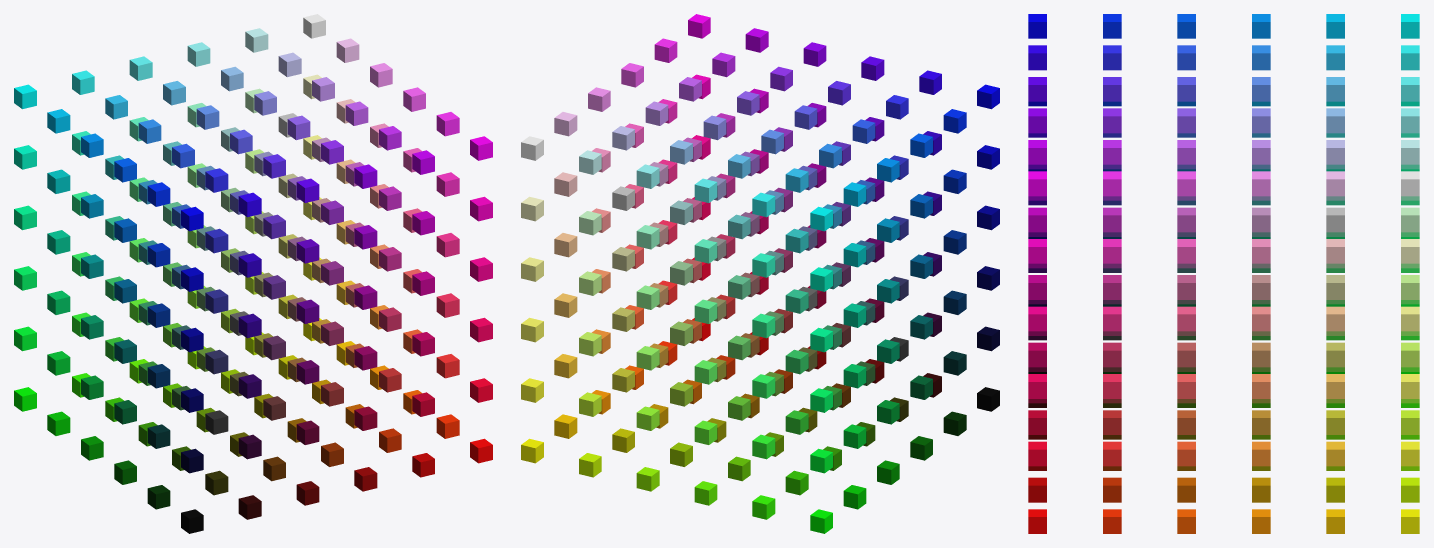
The model's file is Elements_Material.glb.
3 views of the same model, side by side, from view 1: azimuth 30°, elevation 25°; view 2: azimuth 150°, elevation 25°; view 3: azimuth 270°, elevation 25° (orthographic). The views are drawn at different scales.
Visible parts, largest first — view 1: no part large enough to name; view 2: no part large enough to name; view 3: 5856d4da-4130-47d1-a202-3a05e0b80d8a_mesh, 98613b2d-867c-4c29-9830-e681ef7e7cdc_mesh, 179c1a04-d19e-45a1-a2eb-a12df763d013_mesh, 74eb8448-69b2-44fe-91a0-dd544725f7d0_mesh, e97b8ba0-005d-4cea-b40c-6dc6d96379db_mesh, 77631866-67d0-4c3b-9033-1fccc60d713b_mesh, c11bf4a3-0beb-4dcc-a69a-c78c0004e911_mesh, 93192f8b-ed00-4df8-8bc1-8c10a20383fd_mesh, c526f0cc-52a7-47ab-a742-c6389502a437_mesh, f8a75a06-904e-48f6-9fa1-3e889fc27f57_mesh, 905a1849-4b30-41fe-a26e-81e5f8114c29_mesh, bf283f52-fbda-422a-bed0-30d88675c5bd_mesh (+84 smaller).
Boxes of the visible parts, left/top/right/bottom form: 5856d4da-4130-47d1-a202-3a05e0b80d8a_mesh: left=1028, top=45, right=1046, bottom=70; 98613b2d-867c-4c29-9830-e681ef7e7cdc_mesh: left=1103, top=45, right=1121, bottom=70; 179c1a04-d19e-45a1-a2eb-a12df763d013_mesh: left=1177, top=45, right=1195, bottom=70; 74eb8448-69b2-44fe-91a0-dd544725f7d0_mesh: left=1252, top=45, right=1270, bottom=70; e97b8ba0-005d-4cea-b40c-6dc6d96379db_mesh: left=1326, top=45, right=1344, bottom=70; 77631866-67d0-4c3b-9033-1fccc60d713b_mesh: left=1401, top=45, right=1419, bottom=70; c11bf4a3-0beb-4dcc-a69a-c78c0004e911_mesh: left=1028, top=108, right=1046, bottom=133; 93192f8b-ed00-4df8-8bc1-8c10a20383fd_mesh: left=1103, top=108, right=1121, bottom=133; c526f0cc-52a7-47ab-a742-c6389502a437_mesh: left=1177, top=108, right=1195, bottom=133; f8a75a06-904e-48f6-9fa1-3e889fc27f57_mesh: left=1252, top=108, right=1270, bottom=133; 905a1849-4b30-41fe-a26e-81e5f8114c29_mesh: left=1326, top=108, right=1344, bottom=133; bf283f52-fbda-422a-bed0-30d88675c5bd_mesh: left=1401, top=108, right=1419, bottom=133.
Bounding box in the file's own units: 10.5 × 10.5 × 10.5.
